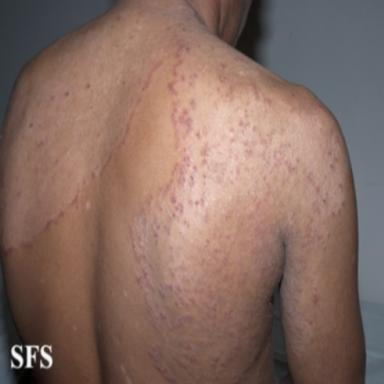Tinea-Corporis: (1, 1, 351, 383)
